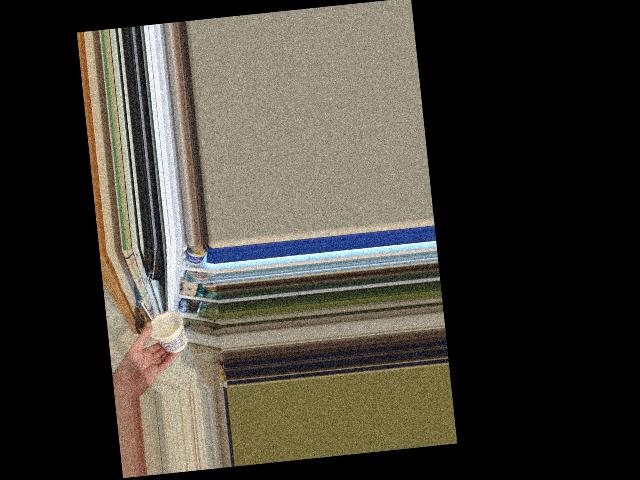cotage: (148, 310, 185, 355)
